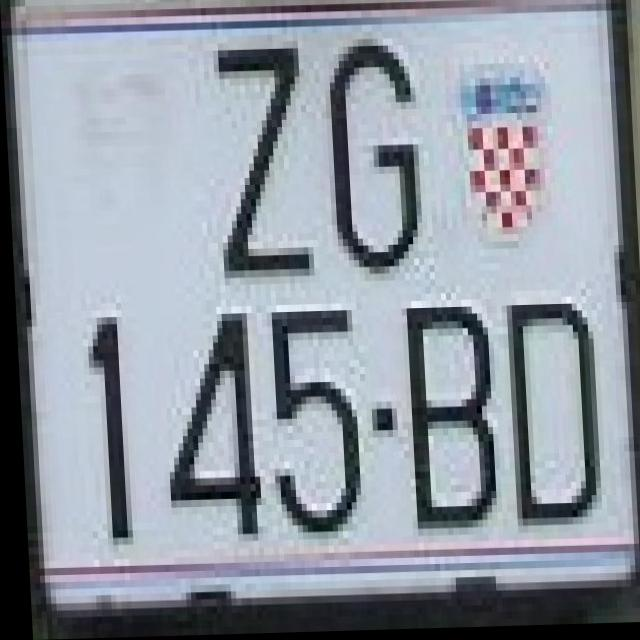1: (78, 310, 147, 546)
4: (152, 300, 263, 559)
5: (257, 290, 367, 542)
B: (392, 294, 502, 539)
D: (492, 278, 603, 543)
G: (312, 33, 422, 277)
Z: (202, 36, 312, 280)
